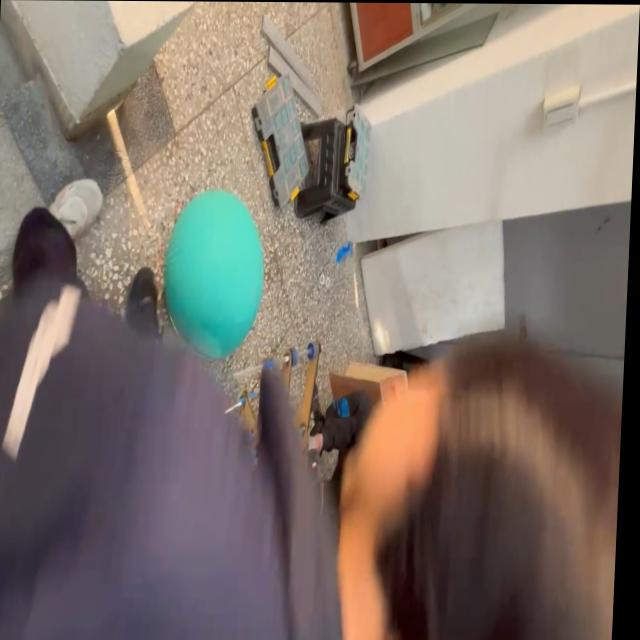ALGAE: (159, 186, 268, 361)
